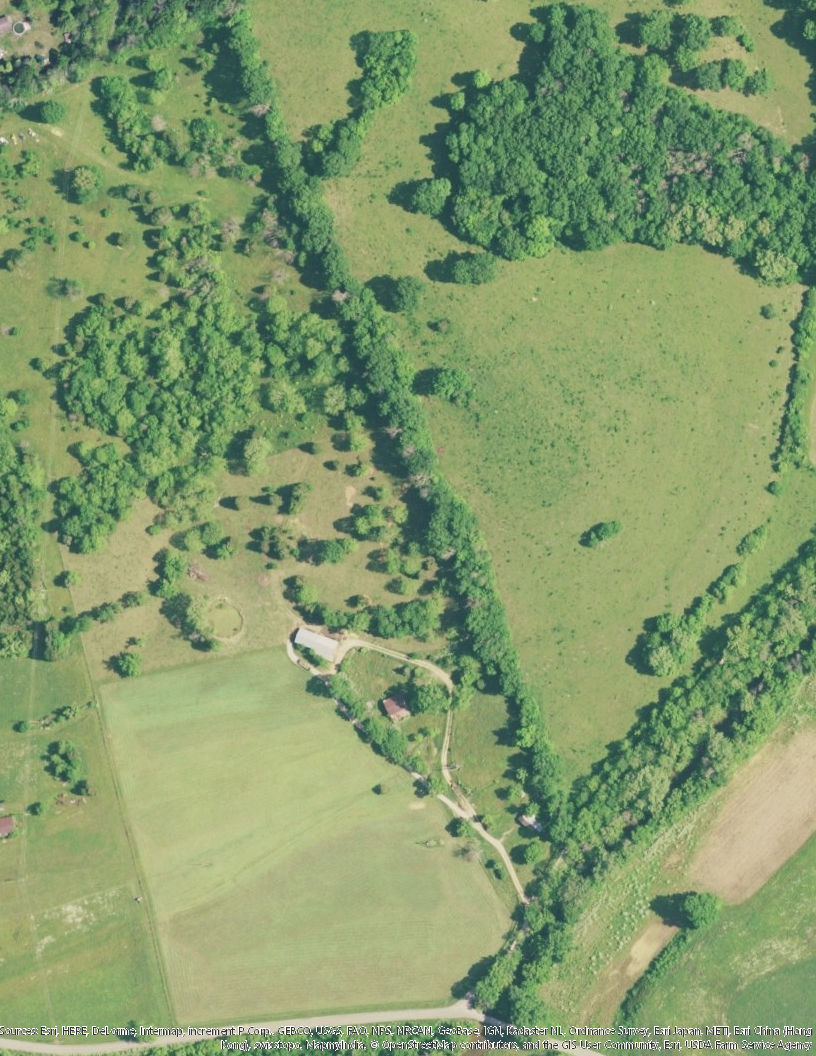cafo: (293, 626, 342, 663)
